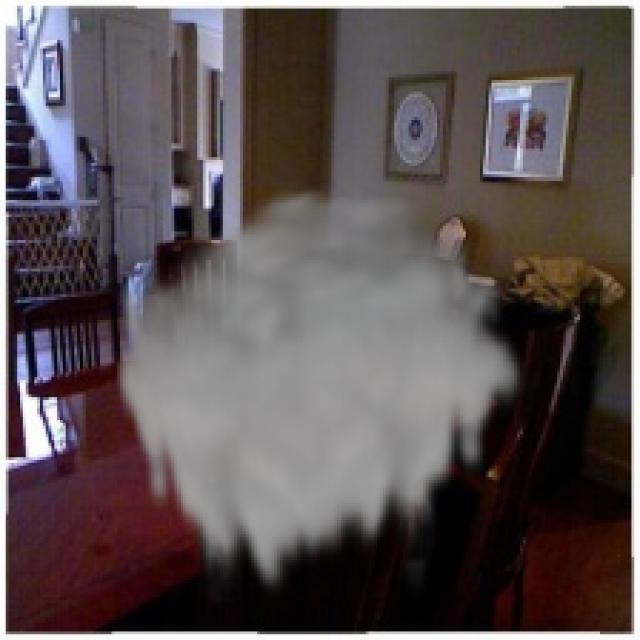Smoke: (111, 180, 528, 606)
